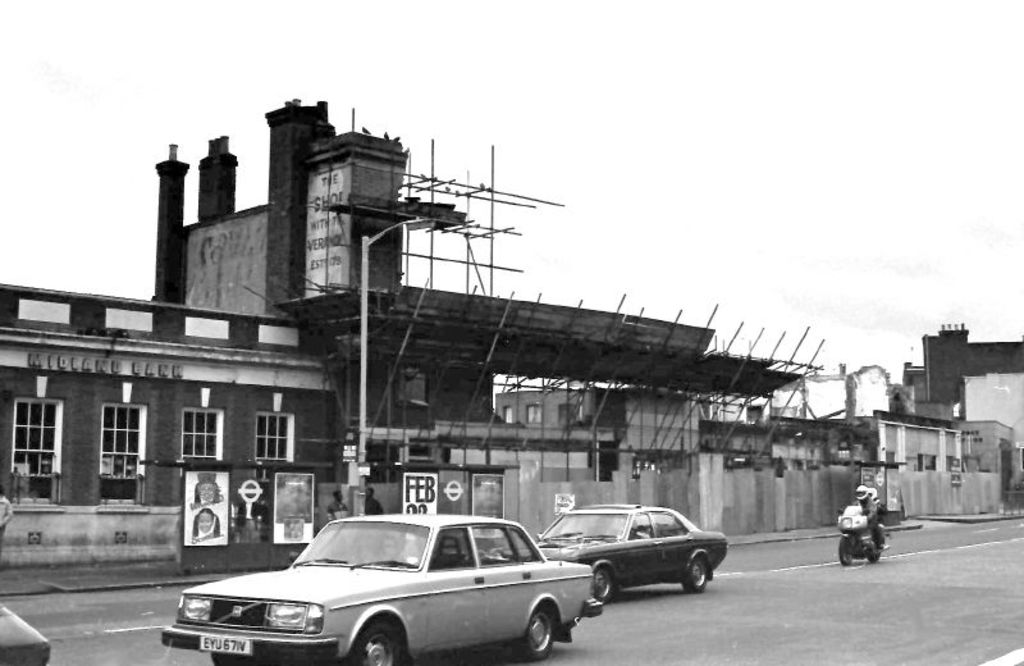Car: (152, 505, 613, 663), (488, 499, 732, 603)
